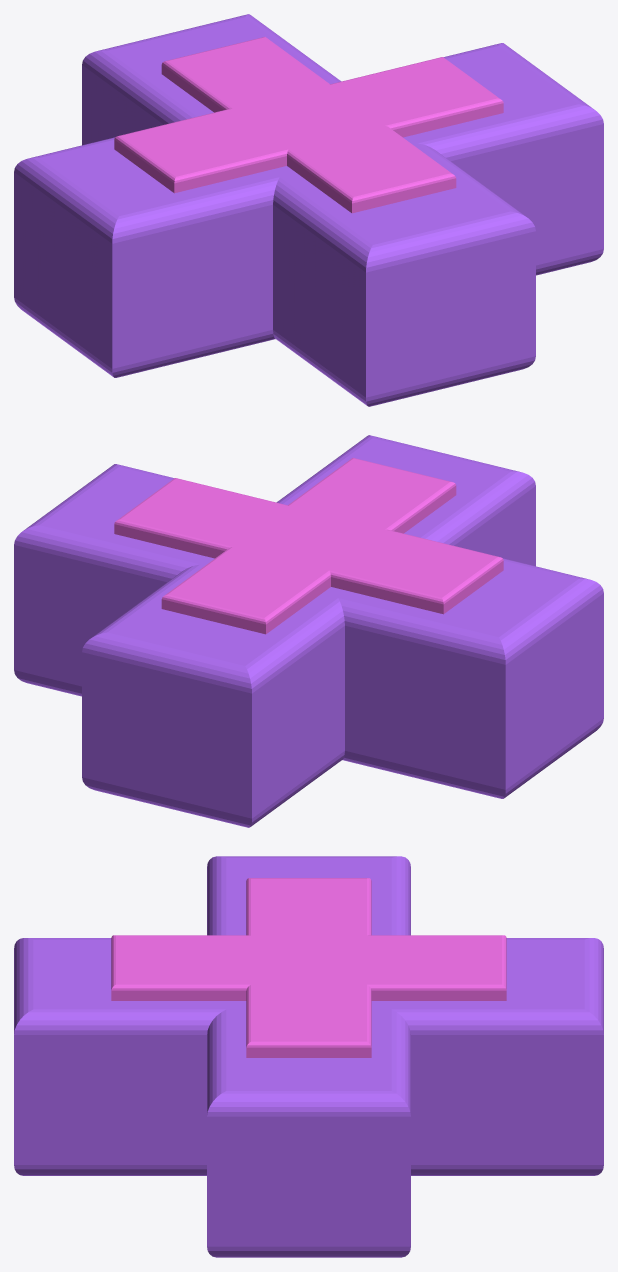
File: herocross.glb
3 renders of one model, top to bottom at view 1: azimuth 30°, elevation 25°; view 2: azimuth 150°, elevation 25°; view 3: azimuth 270°, elevation 25°, orthographic. The views are drawn at different scales.
Parts seen in each view (by area): view 1: cross_body, cross_face_inlay; view 2: cross_body, cross_face_inlay; view 3: cross_body, cross_face_inlay.
Part boxes in pixels (box(x1,y1,x2,y2)): cross_body: box(14, 14, 603, 406); cross_face_inlay: box(114, 37, 503, 213); cross_body: box(14, 435, 603, 827); cross_face_inlay: box(114, 458, 503, 634); cross_body: box(14, 856, 603, 1257); cross_face_inlay: box(111, 878, 506, 1057).
Bounding box in the file's own units: 1.07 × 0.3589 × 1.07.
